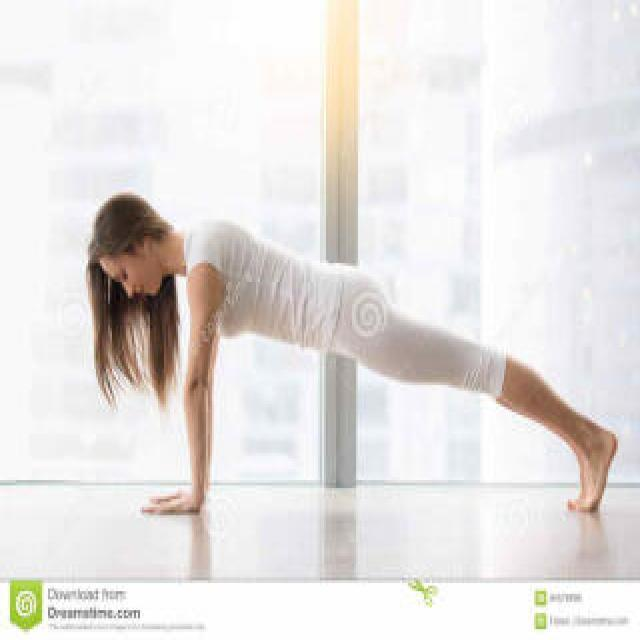yoga-pose plank: (81, 188, 621, 532)
